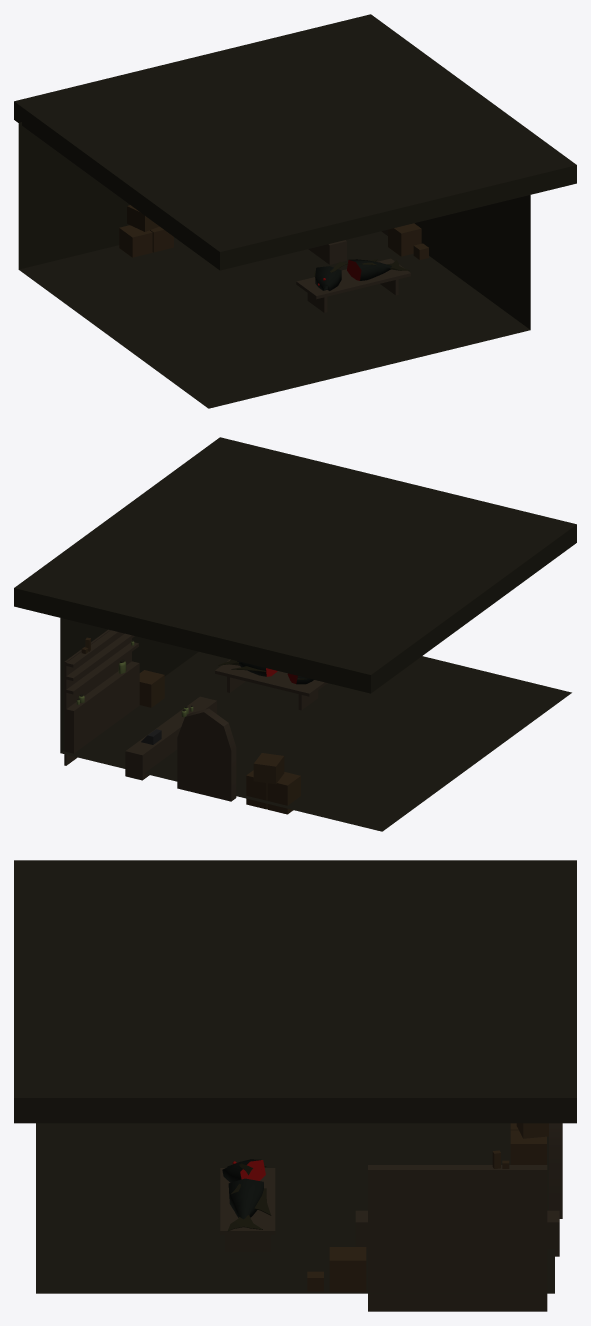
File: Shop_Test.dae
3 views of the same model, one above another, from view 1: azimuth 30°, elevation 25°; view 2: azimuth 150°, elevation 25°; view 3: azimuth 270°, elevation 25° (orthographic). The views are drawn at different scales.
Visible parts, largest first — view 1: pCube42, pCube41, pCube59, pCube53, pCube55, polySurface7, polySurface6, pCube43; view 2: pCube42, pCube41, pCube50, pCube49, pCube43, pCube44, pCube59, pCube53, pCube55, pCube54, pCube48, pCube47 (+1 smaller); view 3: pCube42, pCube41, pCube44, pCube59, pCube55, polySurface7, pCube50, pCube52, pCube43, polySurface6, pCube61, pCube45.
Part boxes in pixels (bbox=[...]): pCube42: bbox=[14, 14, 576, 270]; pCube41: bbox=[18, 122, 530, 408]; pCube59: bbox=[296, 258, 410, 299]; pCube53: bbox=[119, 225, 152, 257]; pCube55: bbox=[388, 223, 421, 256]; polySurface7: bbox=[346, 259, 409, 280]; polySurface6: bbox=[314, 261, 348, 290]; pCube43: bbox=[308, 240, 346, 264]; pCube42: bbox=[14, 437, 576, 693]; pCube41: bbox=[60, 618, 571, 831]; pCube50: bbox=[177, 708, 236, 801]; pCube49: bbox=[66, 661, 139, 753]; pCube43: bbox=[125, 696, 216, 780]; pCube44: bbox=[64, 629, 131, 765]; pCube59: bbox=[215, 659, 327, 696]; pCube53: bbox=[267, 772, 300, 814]; pCube55: bbox=[139, 670, 164, 707]; pCube54: bbox=[253, 753, 284, 784]; pCube48: bbox=[66, 642, 138, 694]; pCube47: bbox=[66, 633, 134, 680]; pCube42: bbox=[14, 860, 576, 1123]; pCube41: bbox=[36, 1123, 554, 1293]; pCube44: bbox=[368, 1169, 547, 1311]; pCube59: bbox=[220, 1168, 275, 1234]; pCube55: bbox=[329, 1247, 366, 1292]; polySurface7: bbox=[227, 1178, 271, 1231]; pCube50: bbox=[549, 1123, 562, 1218]; pCube52: bbox=[510, 1130, 546, 1164]; pCube43: bbox=[355, 1210, 559, 1256]; polySurface6: bbox=[222, 1159, 266, 1182]; pCube61: bbox=[225, 1235, 270, 1251]; pCube45: bbox=[368, 1165, 547, 1168].
Bounding box in the file's own units: 149 × 69.44 × 148.
